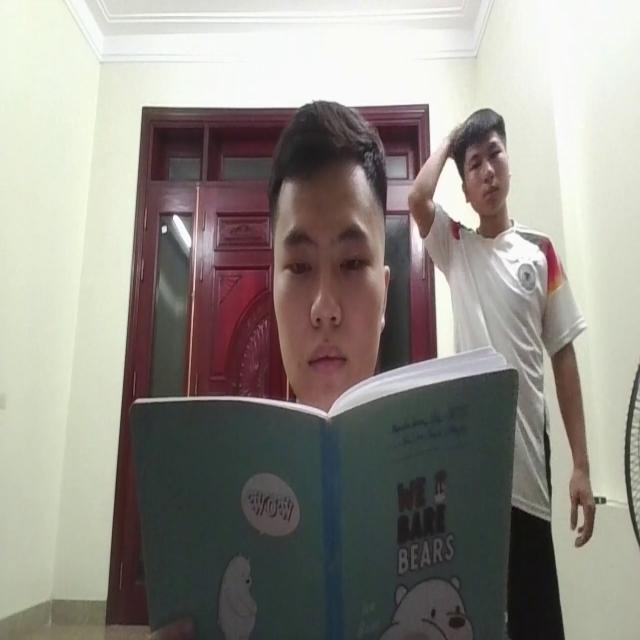book: (131, 357, 511, 640)
extra_person: (412, 94, 587, 540)
student: (269, 96, 386, 409)
